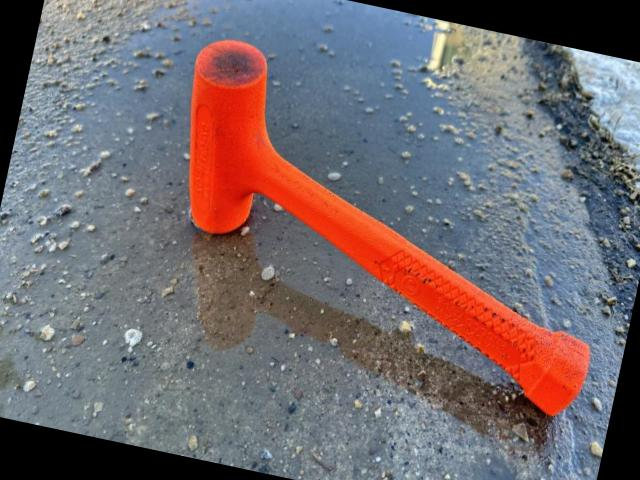hammer: (141, 31, 640, 420)
